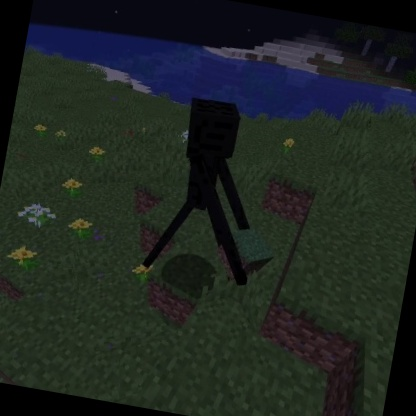enderman: (138, 89, 292, 292)
